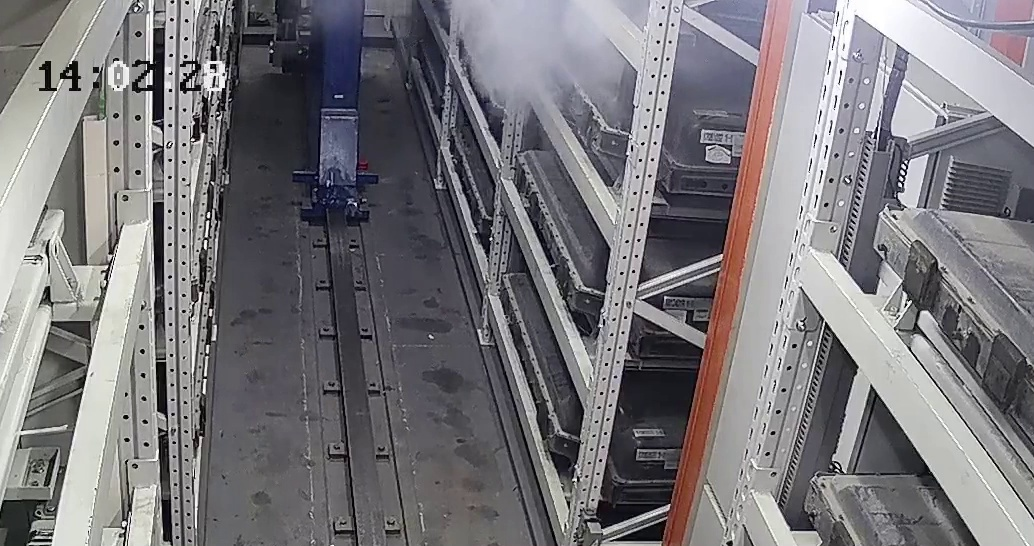smoke: (451, 12, 599, 112)
